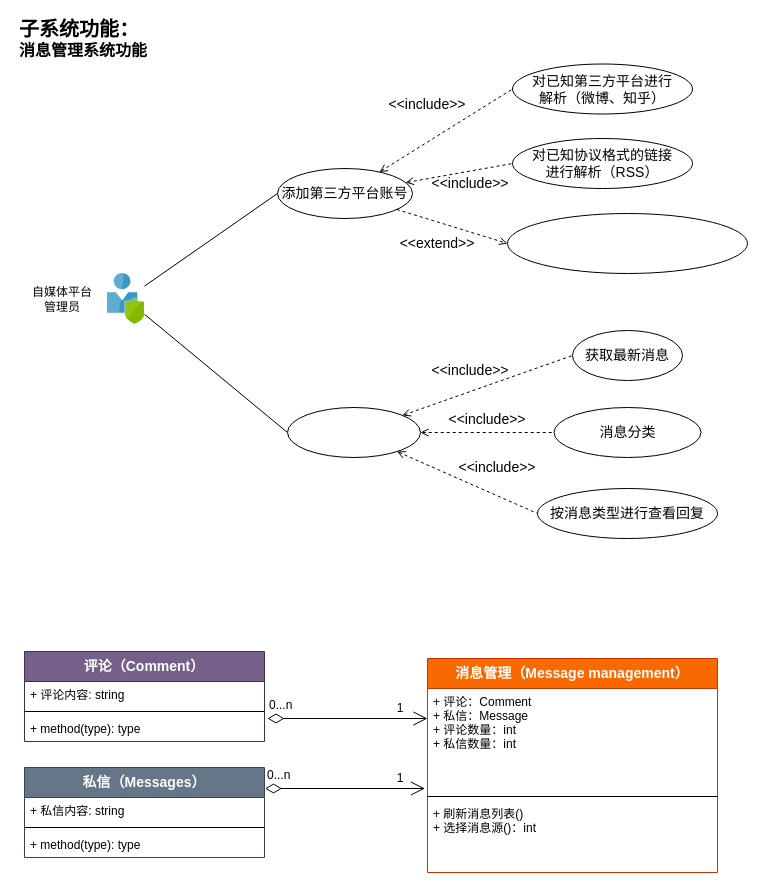
Image size: 765x893. Some labels were removed from this diagram. The centre of each missing label's shape, as x and y in pixels:
对未知第三方平台进行记录反馈， 在后续迭代版本中添加: (x=627, y=243)
查看收到的消息: (x=353, y=432)
